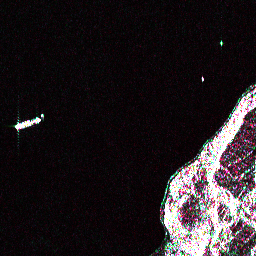ship: (12, 113, 45, 131)
